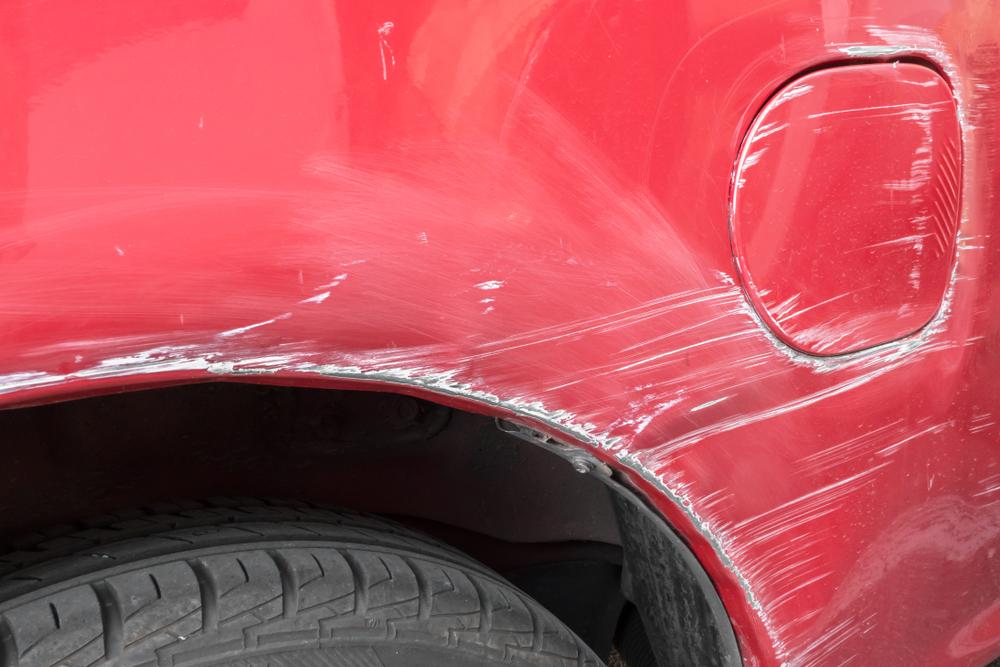scratch: (0, 11, 1000, 667), (729, 67, 963, 356)
